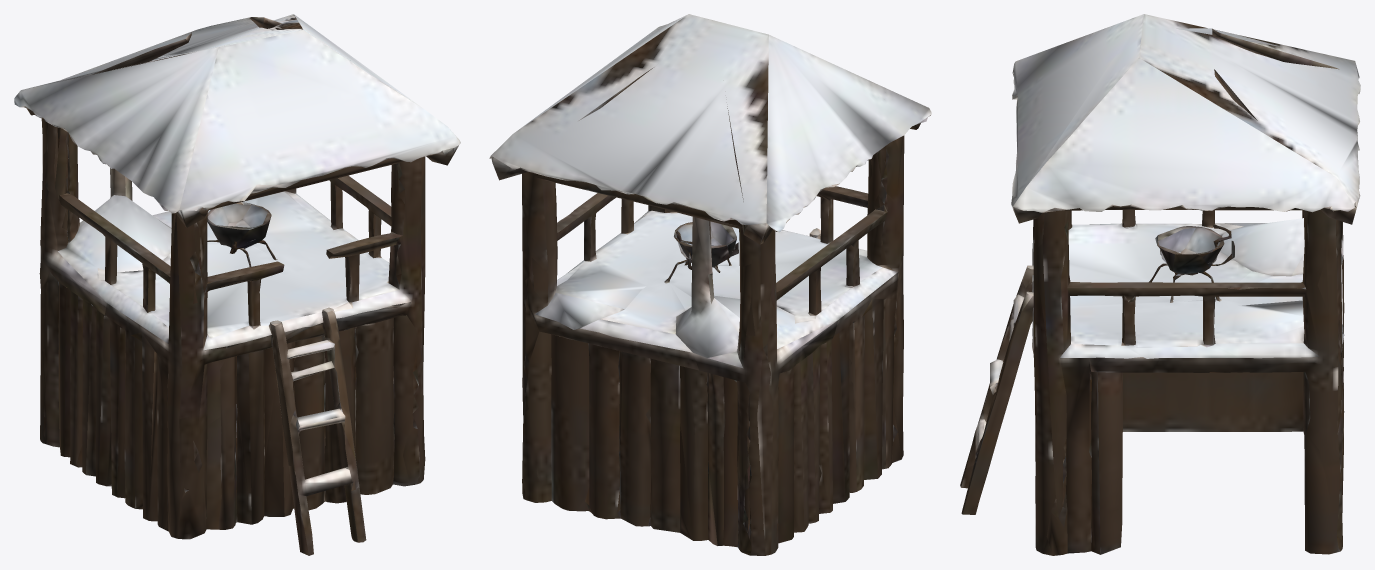
The model's file is ptower.glb.
3 renders of one model, left to right at view 1: azimuth 30°, elevation 25°; view 2: azimuth 150°, elevation 25°; view 3: azimuth 270°, elevation 25°, orthographic. The views are drawn at different scales.
Visible parts, largest first — view 1: Mesh; view 2: Mesh; view 3: Mesh.
Boxes of the visible parts, x1,y1,x2,y2 form: Mesh: (14, 14, 460, 555); Mesh: (489, 14, 931, 555); Mesh: (960, 14, 1360, 555).
Bounding box in the file's own units: 1.3 × 1.9 × 1.46.
1 material, 1 textured.
